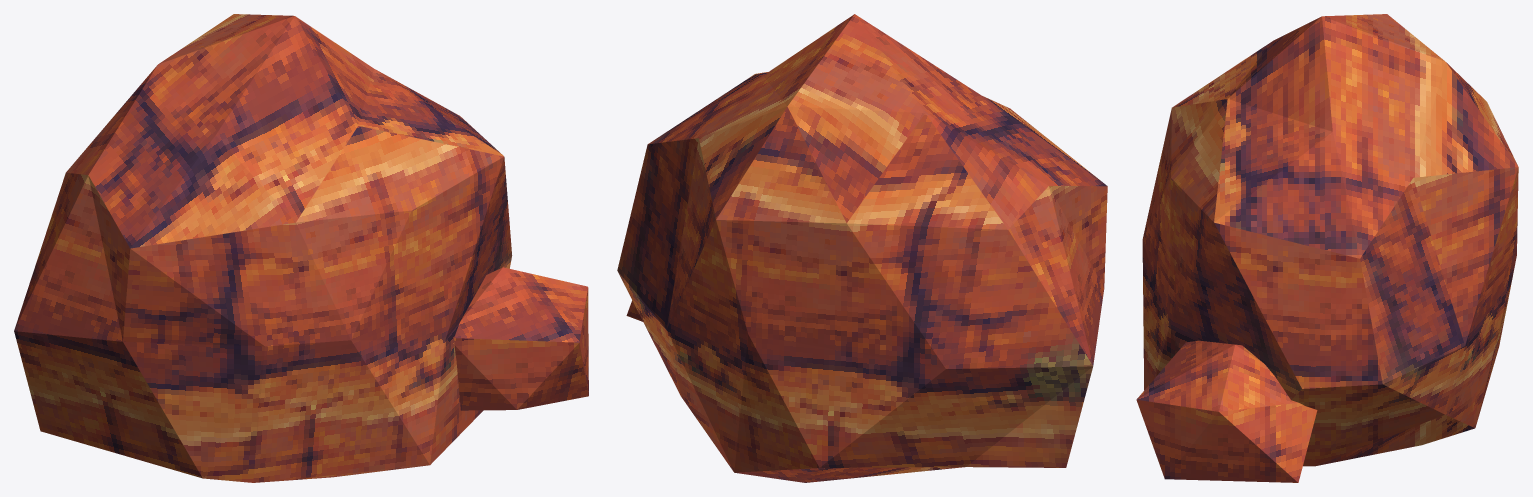
File: desert_boulder.glb
3 views of the same model, side by side, from view 1: azimuth 30°, elevation 25°; view 2: azimuth 150°, elevation 25°; view 3: azimuth 270°, elevation 25° (orthographic). The views are drawn at different scales.
Visible parts, largest first — view 1: Boulder; view 2: Boulder; view 3: Boulder.
Boxes of the visible parts, bbox=[...] form: Boulder: bbox=[14, 14, 588, 482]; Boulder: bbox=[617, 14, 1107, 482]; Boulder: bbox=[1136, 14, 1518, 482].
Bounding box in the file's own units: 3.3 × 2.57 × 2.26.
1 material, 1 textured.
